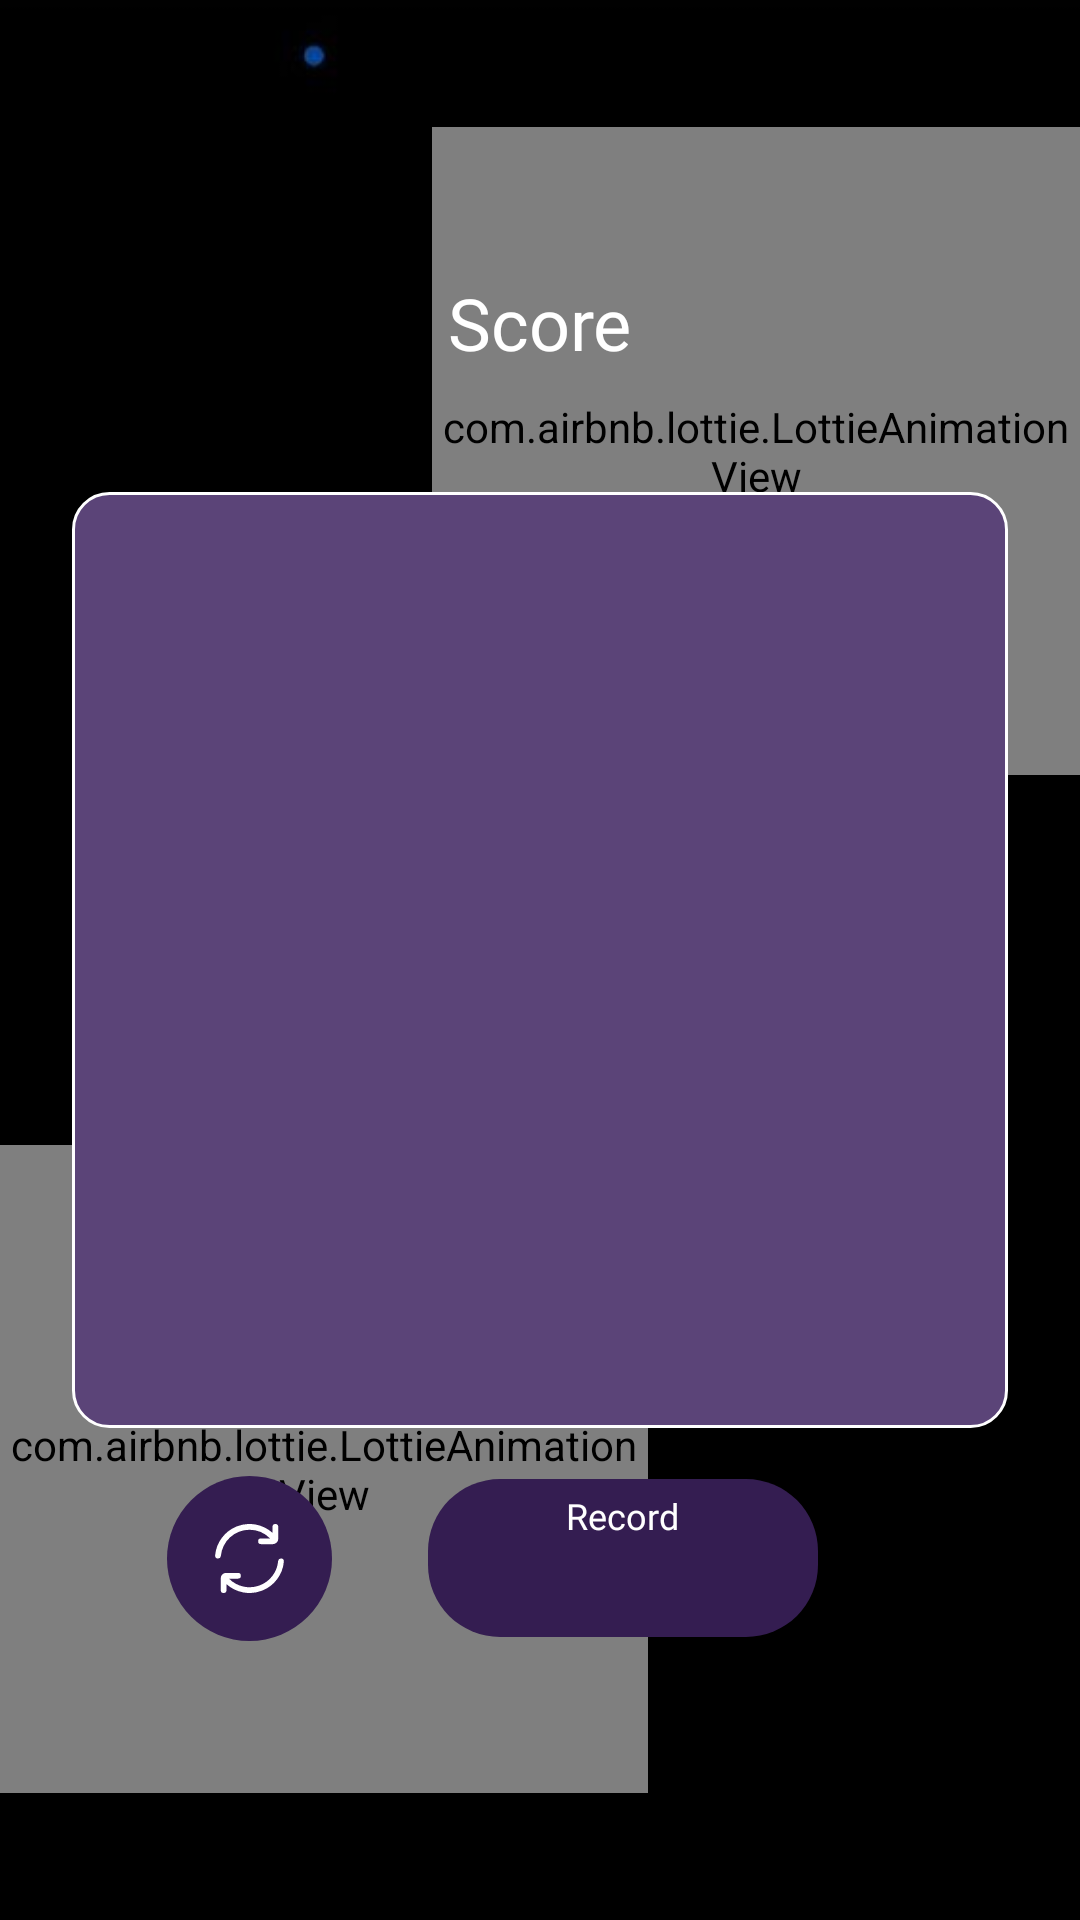

Named icons in this screenshot (1080 × 1920) and their centers, (x,y):
refresh: (249,1558)
